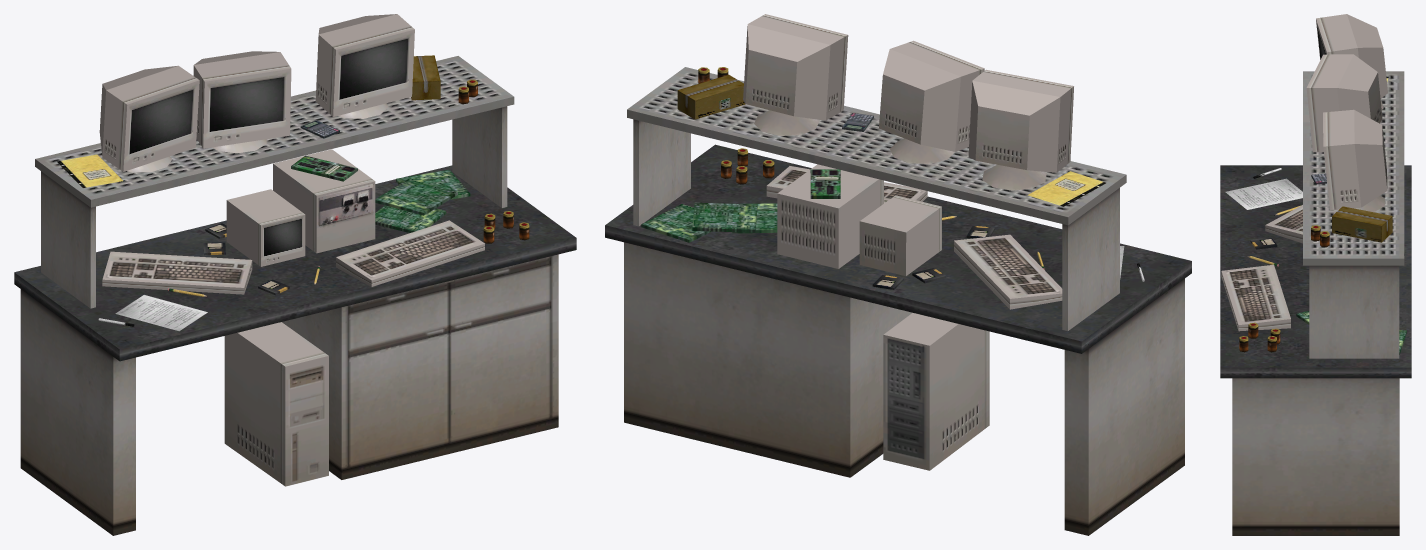
The model's file is labdesk6.fbx.
3 views of the same model, side by side, from view 1: azimuth 30°, elevation 25°; view 2: azimuth 150°, elevation 25°; view 3: azimuth 270°, elevation 25° (orthographic). The views are drawn at different scales.
Parts seen in each view (by area): view 1: mesh_0; view 2: mesh_0; view 3: mesh_0.
Boxes of the visible parts, x1,y1,x2,y2 form: mesh_0: [14, 14, 576, 535]; mesh_0: [605, 14, 1191, 535]; mesh_0: [1220, 14, 1411, 535].
Bounding box in the file's own units: 200 × 162 × 80.
1 material, 1 textured.
